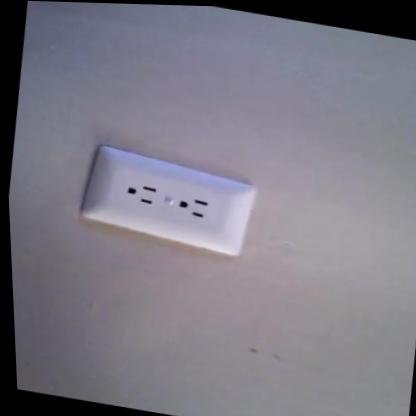OUTLET: (86, 144, 252, 255)
